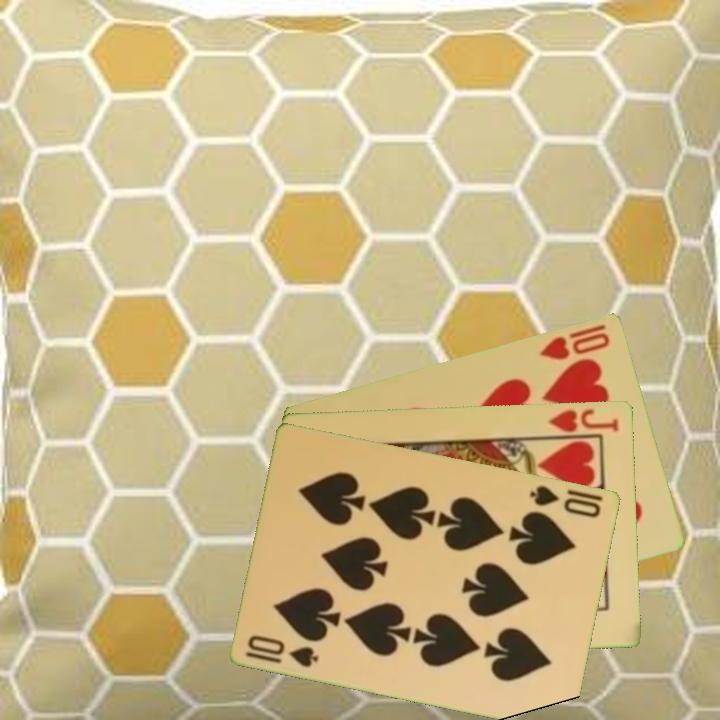10h: (536, 320, 613, 363)
10s: (242, 631, 322, 670), (526, 481, 604, 520)
Jh: (545, 405, 622, 435)
